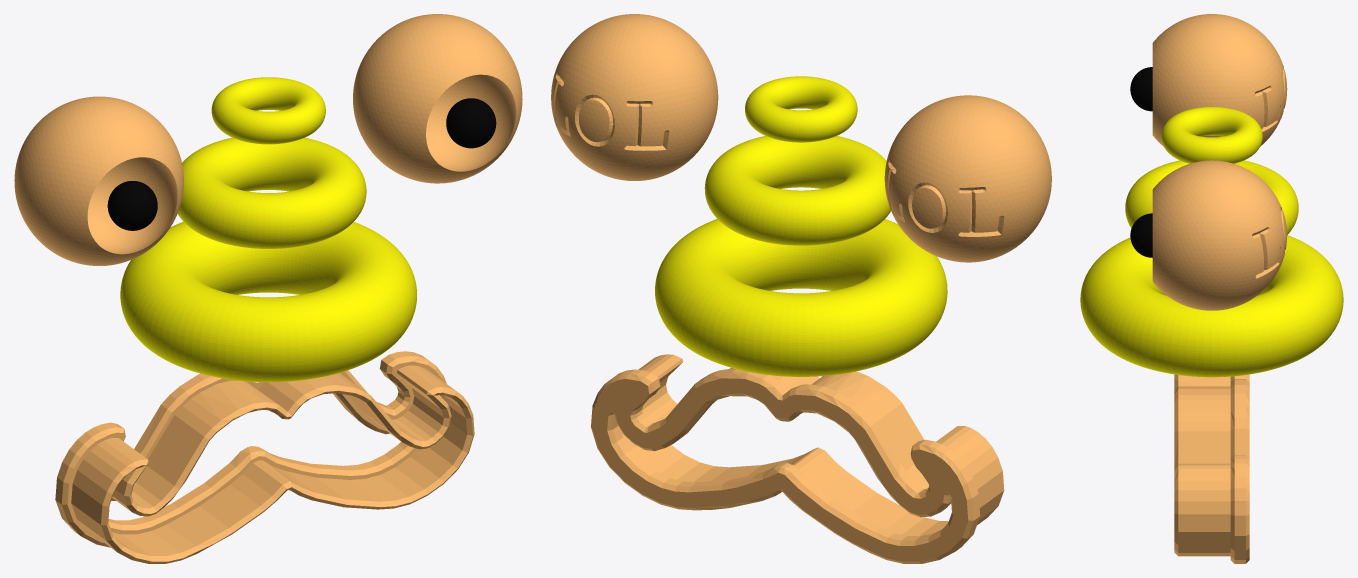
The model's file is Moustache Face.fbx.
3 views of the same model, side by side, from view 1: azimuth 30°, elevation 25°; view 2: azimuth 150°, elevation 25°; view 3: azimuth 270°, elevation 25° (orthographic). The views are drawn at different scales.
Visible parts, largest first — view 1: Origin; view 2: Origin; view 3: Origin.
Part boxes in pixels (box(x1,y1,x2,y2)): Origin: box(14, 14, 522, 563); Origin: box(551, 14, 1051, 563); Origin: box(1080, 14, 1343, 563).
Size of the model in its own units: 1015 by 929 by 537.
